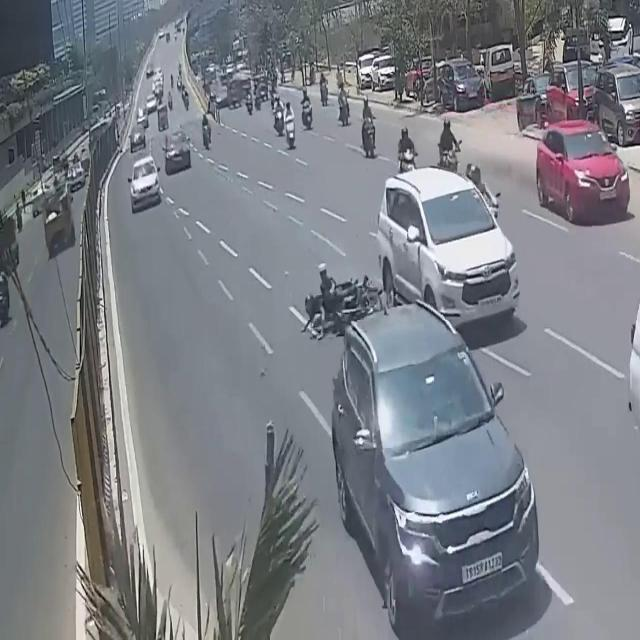accident: (296, 252, 384, 348)
non_accident: (510, 59, 640, 149), (401, 49, 483, 108), (207, 58, 269, 127), (134, 54, 170, 134), (355, 37, 401, 99)
